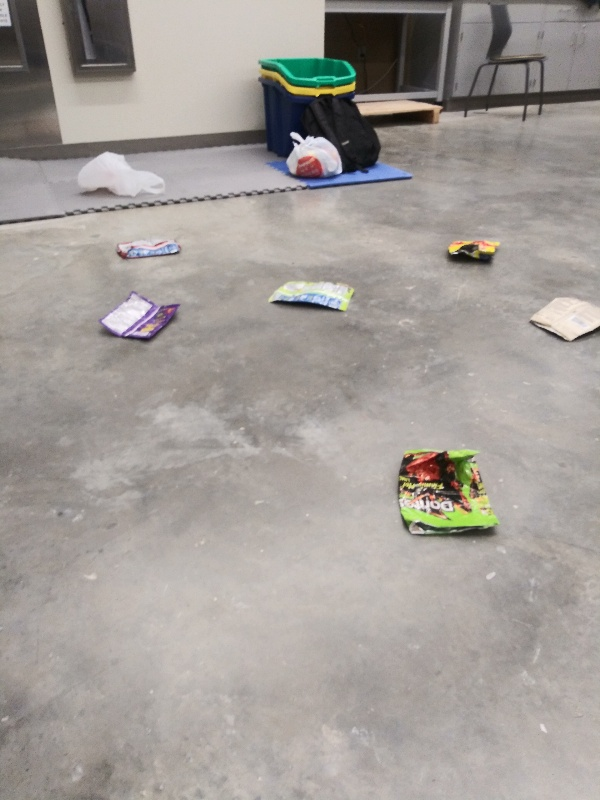bag: (391, 443, 500, 539), (96, 288, 185, 343), (523, 291, 600, 343), (265, 277, 360, 316), (108, 235, 186, 262), (443, 236, 504, 263)
